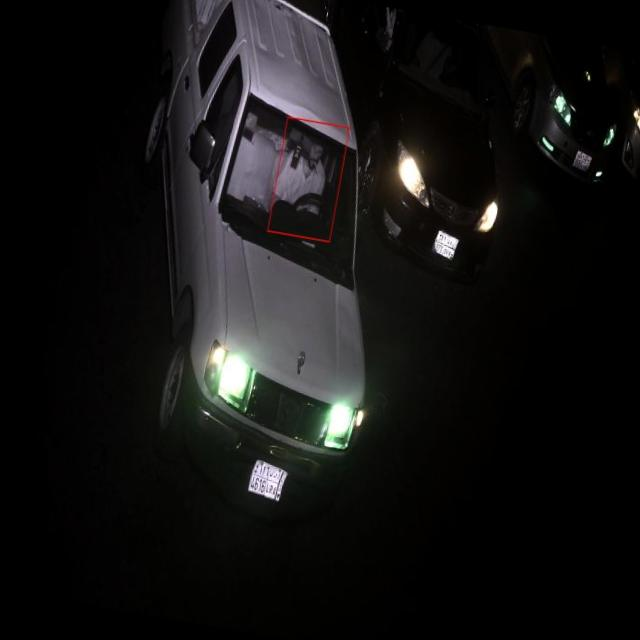person_without_seatbelt: (270, 119, 346, 238)
